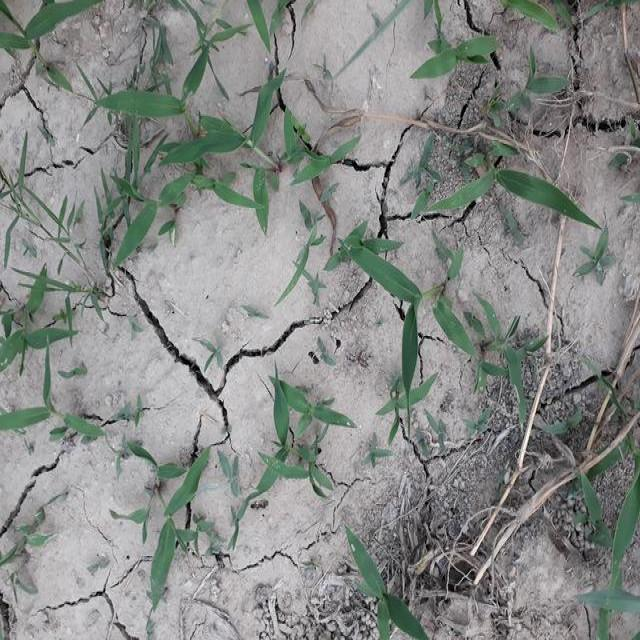weed: (102, 55, 232, 244), (6, 285, 80, 468), (132, 442, 219, 592), (237, 93, 327, 222), (440, 162, 598, 224), (315, 230, 426, 307), (266, 380, 335, 499), (440, 297, 530, 383), (592, 492, 640, 640), (352, 546, 419, 640), (340, 218, 420, 296), (6, 0, 85, 58), (395, 327, 434, 443), (415, 34, 501, 85)
